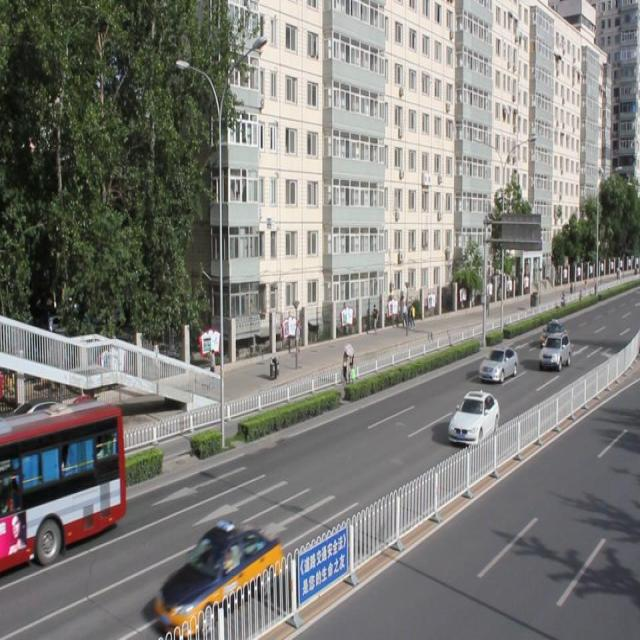car: (152, 519, 282, 640), (448, 387, 500, 447), (478, 343, 517, 384), (537, 331, 570, 368)
van: (1, 405, 124, 556)
